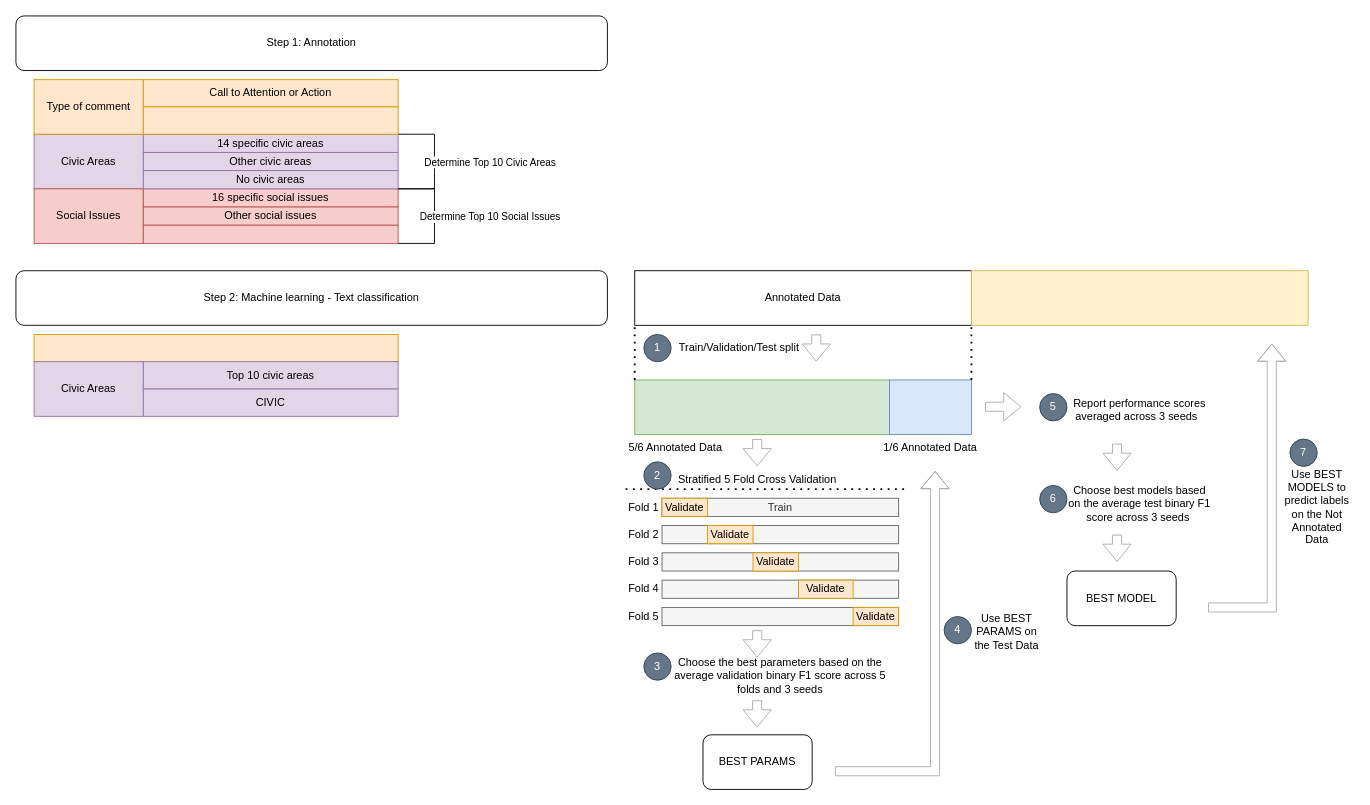
Image size: 1370x805. Some labels were removed from this diagram. Here are the shapes that lost their labels. From the top down, the box of each, then its label:
(142, 106, 398, 134): Announcements
(142, 224, 398, 243): No social Issues
(971, 270, 1308, 325): Not Annotated Data
(33, 334, 398, 362): C ALL T O A TTENTION /A CTION
(634, 379, 890, 435): Train + Validation Data
(889, 379, 971, 435): Test Data
